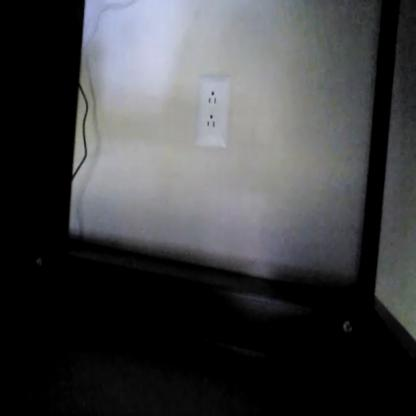OUTLET: (196, 75, 230, 147)
